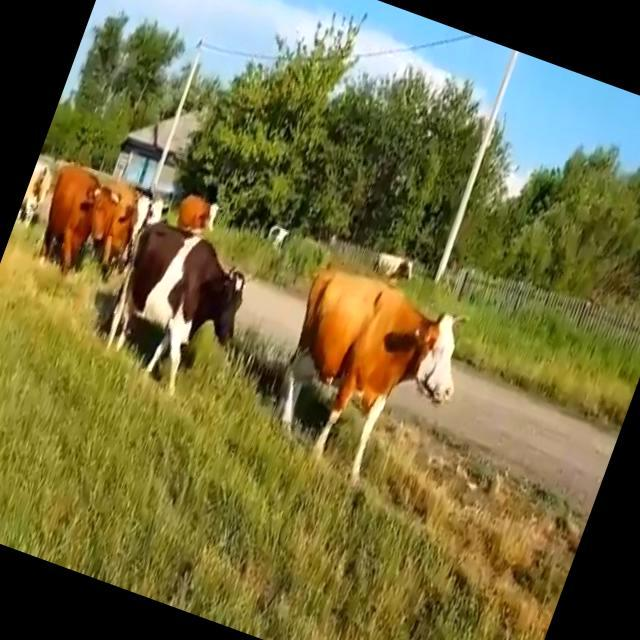COW: (45, 165, 244, 393), (279, 270, 453, 481)
